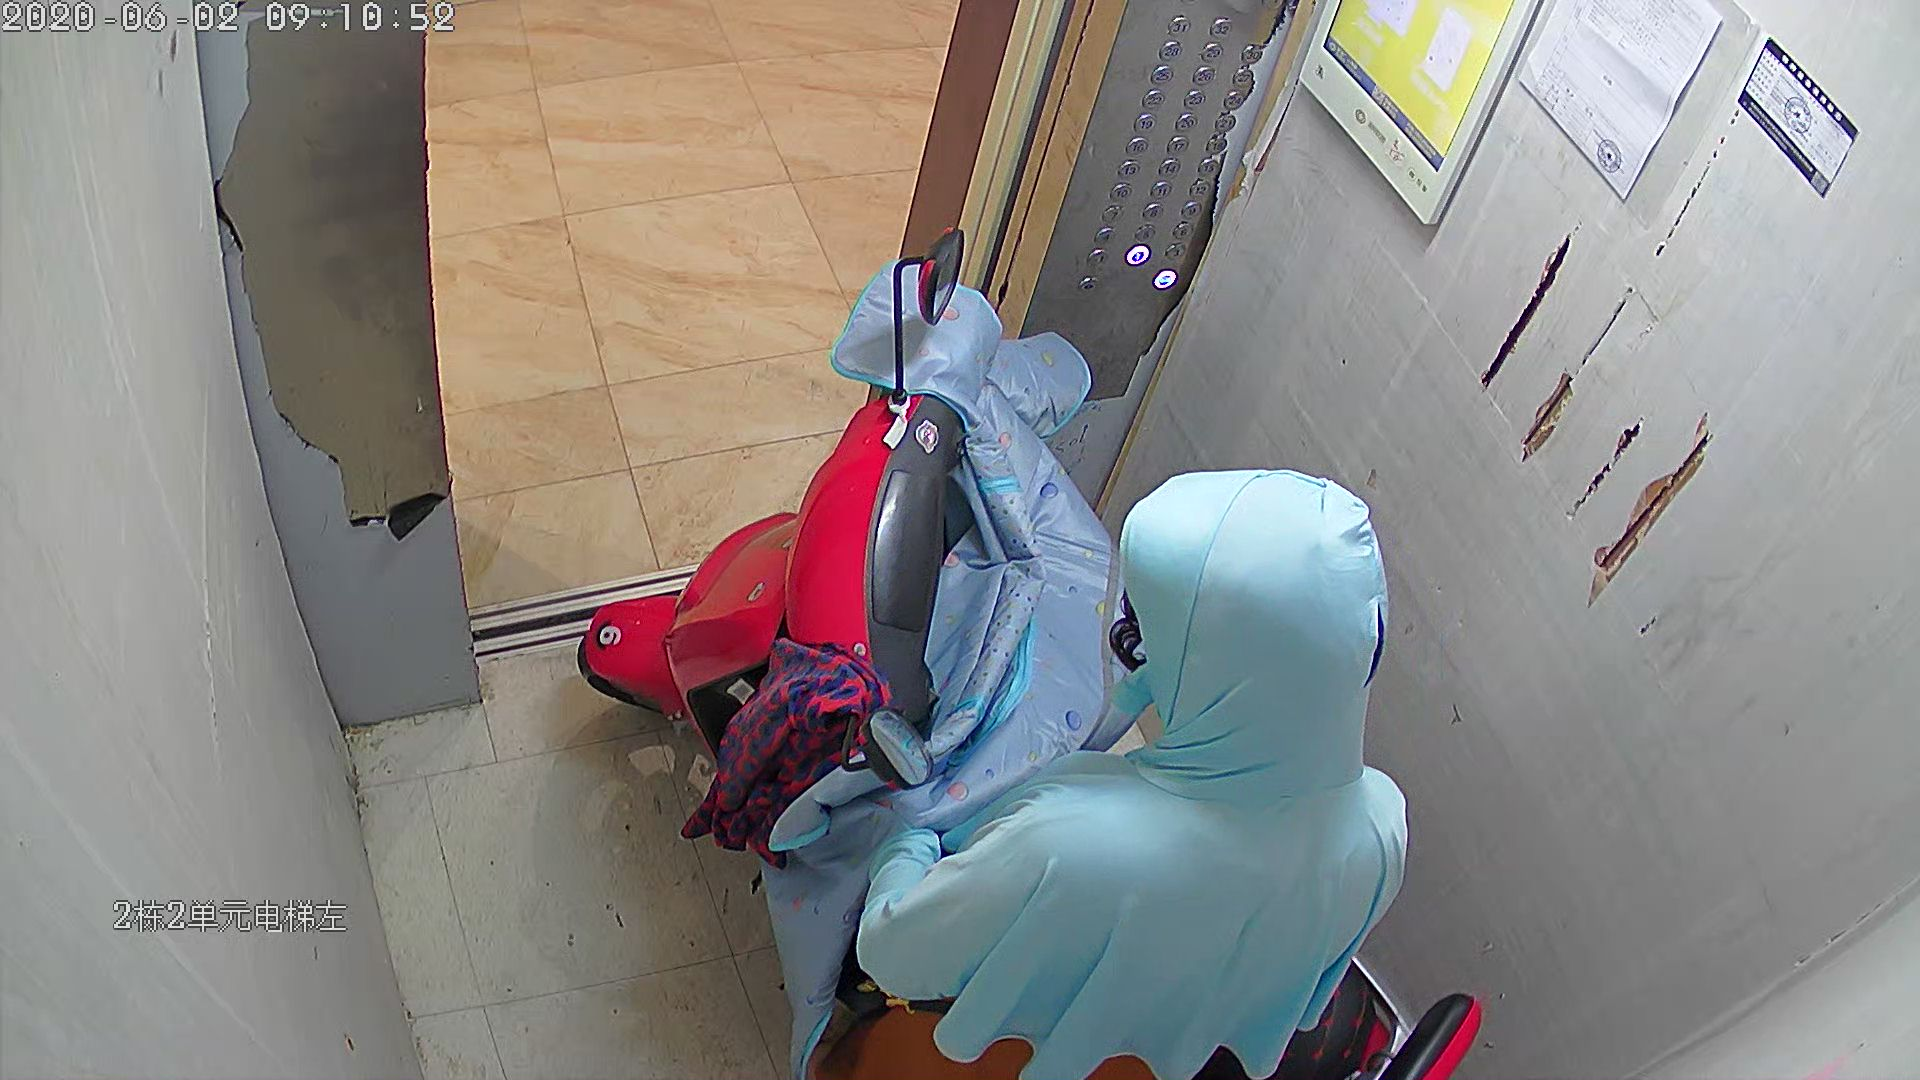Electric-bicycle: (576, 229, 1491, 1080)
